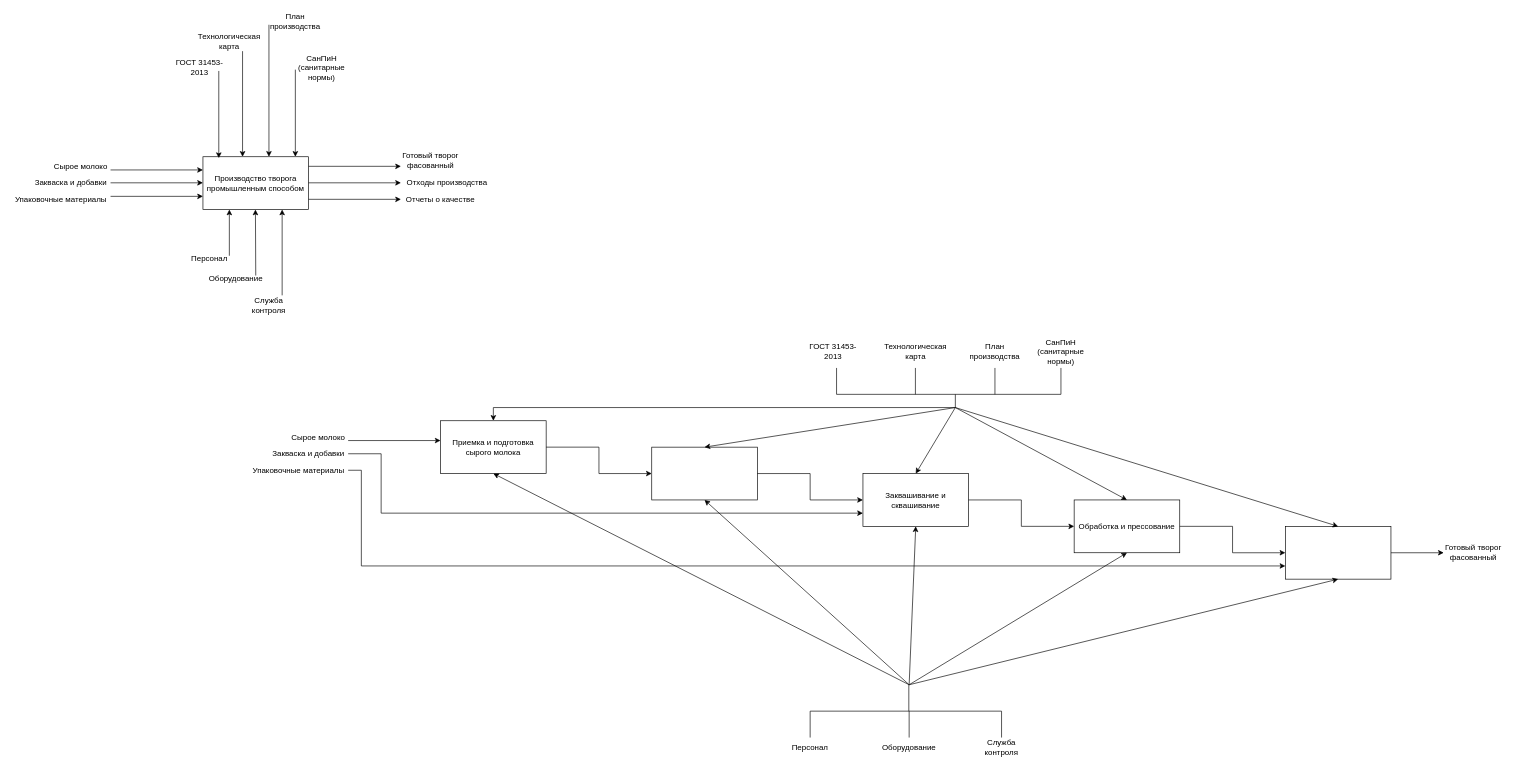
Some shapes in this 1521 by 774 pixel diagram are drawn without their labels. Each missing label, with the centre of its shape:
"Нормализация и пастеризация" belongs at (704,473).
"Охлаждение и фасовка" belongs at (1338,552).
